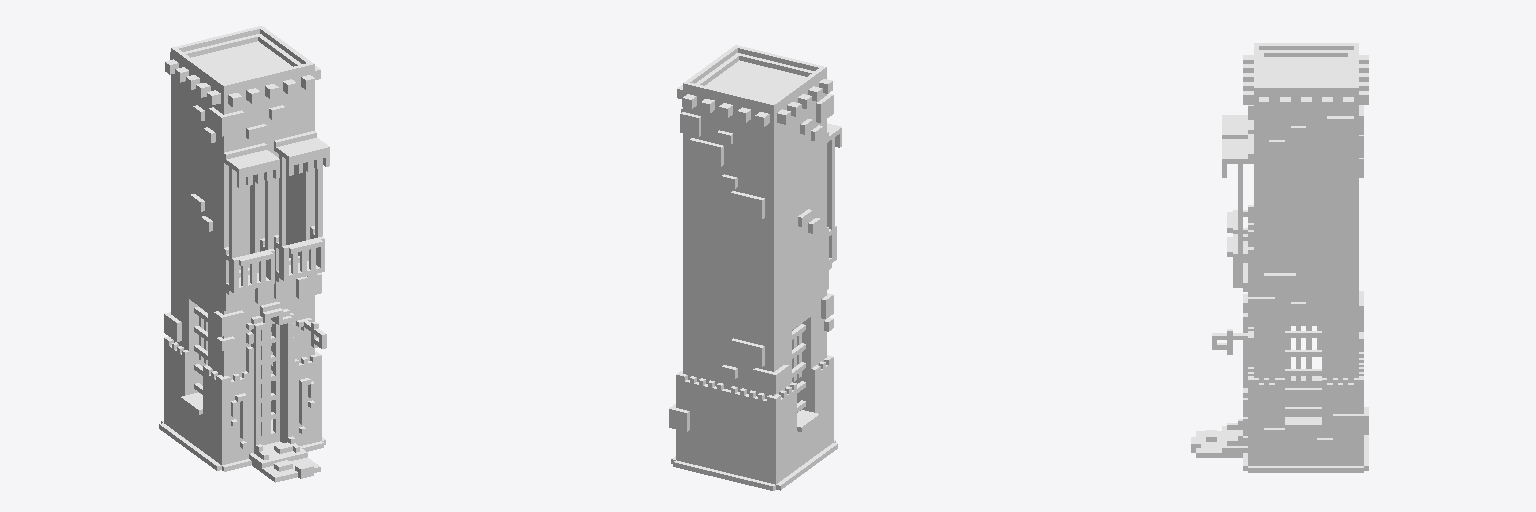
Rendered from TallBuilding01.obj.
3 renders of one model, left to right at view 1: azimuth 30°, elevation 25°; view 2: azimuth 150°, elevation 25°; view 3: azimuth 270°, elevation 25°, orthographic.
Parts seen in each view (by area): view 1: object 1; view 2: object 1; view 3: object 1.
Boxes of the visible parts, x1=… form: object 1: x1=159, y1=26, x2=329, y2=482; object 1: x1=669, y1=45, x2=841, y2=490; object 1: x1=1191, y1=43, x2=1368, y2=472.
Size of the model in its own units: 2.4 by 8 by 3.4.